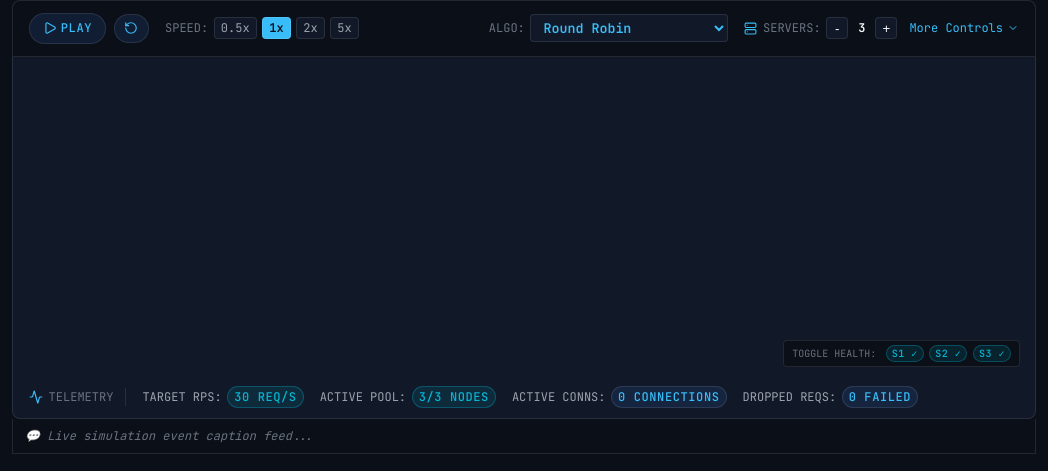
Test case: LoadBalancerVisualizer (Flagship §7.1) › allows scaling server pool and toggling server health
Note: Click server 1 health toggle
Click the button "S1 ✓" at point(905, 353), box [886,345,924,362]
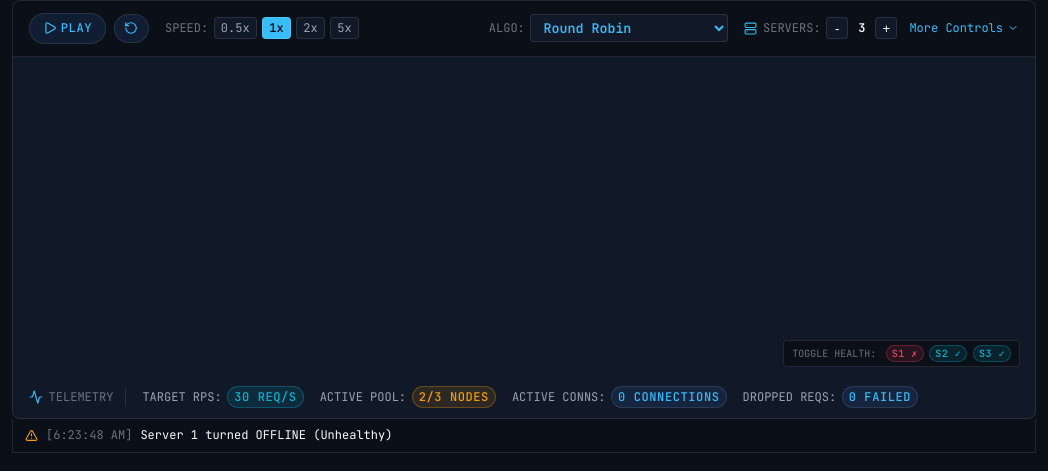
Now the button "S1 ✗" is shown, box [886,345,924,362]
